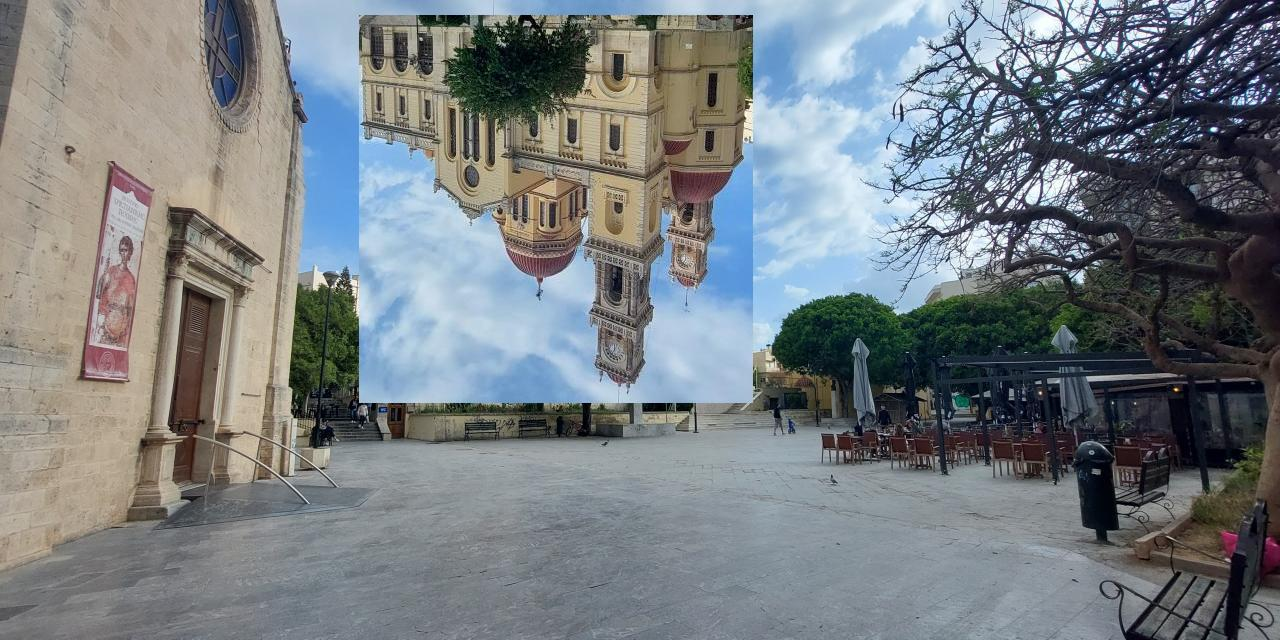Agios Minas: (360, 16, 754, 404)
